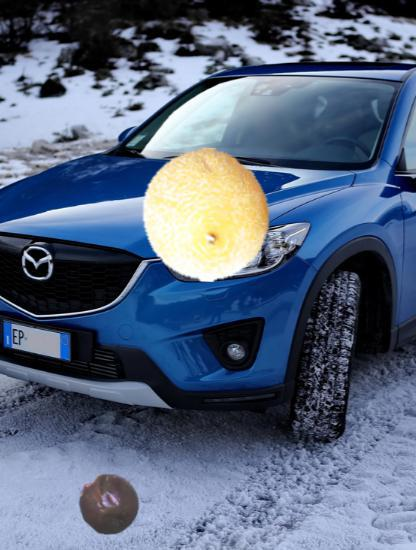Cantaloupe: (140, 148, 274, 282)
Passion: (77, 471, 141, 535)
